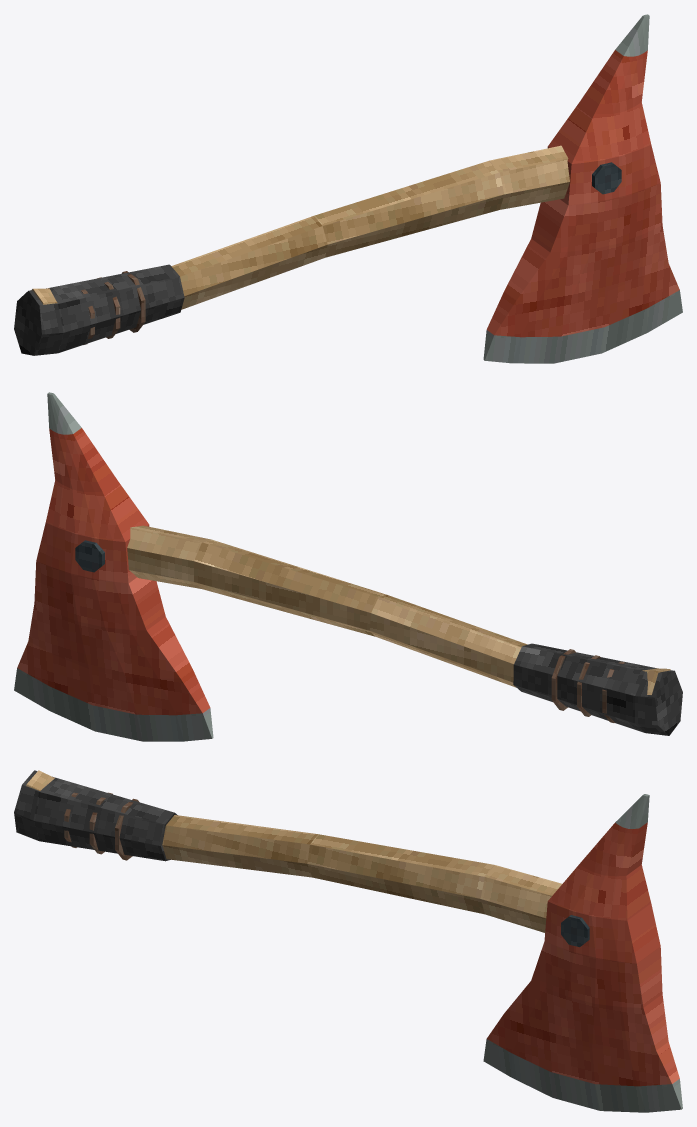
File: 04_fire_axe.glb
3 views of the same model, one above another, from view 1: azimuth 30°, elevation 25°; view 2: azimuth 150°, elevation 25°; view 3: azimuth 330°, elevation 25° (orthographic).
Parts seen in each view (by area): view 1: 04_fire_axe; view 2: 04_fire_axe; view 3: 04_fire_axe.
Boxes of the visible parts, bbox=[...] form: 04_fire_axe: bbox=[14, 14, 682, 363]; 04_fire_axe: bbox=[14, 392, 682, 741]; 04_fire_axe: bbox=[14, 770, 682, 1112].
Bounding box in the file's own units: 0.6271 × 0.2972 × 0.0564.
Materials: 1 (1 with a texture image).
